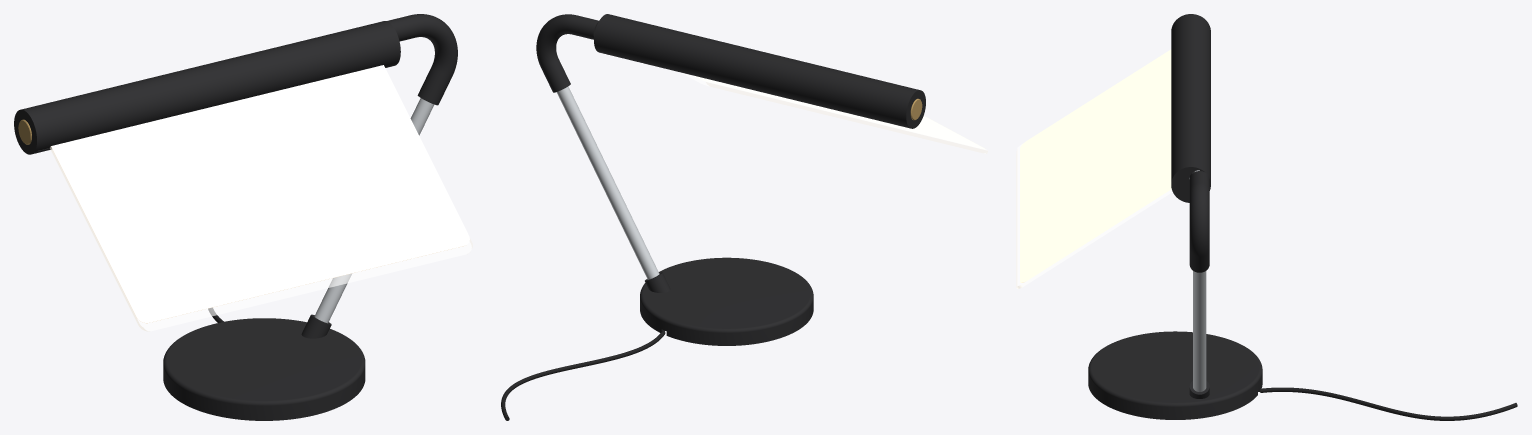
File: ruta-c.glb
The picture shows the model from 3 angles, left to right: view 1: azimuth 30°, elevation 25°; view 2: azimuth 150°, elevation 25°; view 3: azimuth 270°, elevation 25°; orthographic projection. The views are drawn at different scales.
Visible parts, largest first — view 1: Blad, Fast, 05h, 05v; view 2: Fast, 05h, 05v, Blad, leidning; view 3: Blad, Fast, 05h, 05v, leidning.
Boxes of the visible parts, box(x1,y1,x2,y2) form: Blad: box(18, 65, 472, 331); Fast: box(163, 14, 457, 420); 05h: box(166, 21, 400, 114); 05v: box(14, 74, 182, 154); Fast: box(536, 14, 813, 345); 05h: box(594, 14, 794, 97); 05v: box(781, 59, 925, 128); Blad: box(681, 72, 987, 153); leidning: box(501, 330, 665, 420); Blad: box(1016, 49, 1172, 288); Fast: box(1088, 170, 1262, 419); 05h: box(1171, 75, 1210, 202); 05v: box(1171, 14, 1210, 90); leidning: box(1260, 387, 1517, 420).
Bounding box in the file's own units: 0.394 × 0.2726 × 0.454.
